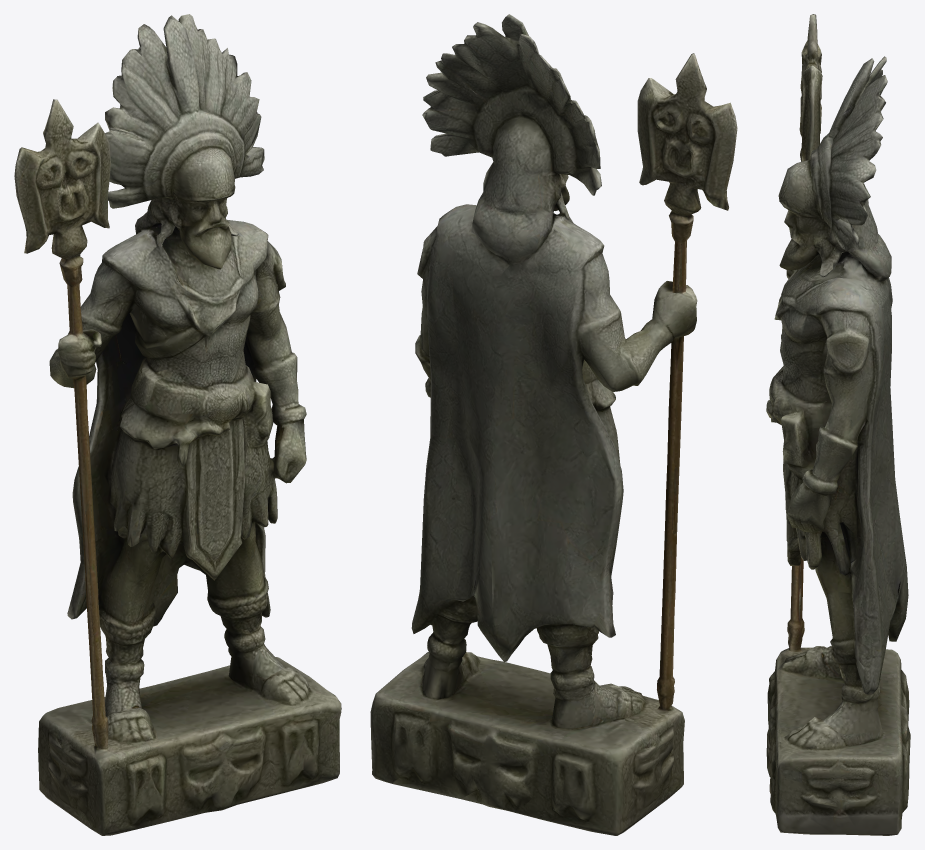
The model's file is guardian.glb.
3 renders of one model, left to right at view 1: azimuth 30°, elevation 25°; view 2: azimuth 150°, elevation 25°; view 3: azimuth 270°, elevation 25°, orthographic. The views are drawn at different scales.
Size of the model in its own units: 0.8203 by 1.89 by 0.3425.
Materials: 1 (1 with a texture image).
